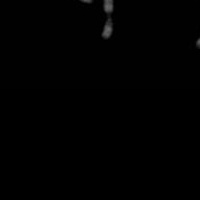chromosome: (100, 0, 118, 40), (196, 10, 200, 51), (50, 0, 92, 3)
